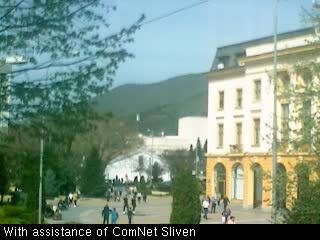person: (102, 204, 110, 224), (110, 208, 119, 224), (223, 207, 231, 223), (131, 194, 137, 215), (123, 195, 129, 215), (203, 200, 209, 220), (127, 207, 134, 224), (211, 196, 217, 214), (68, 192, 74, 207), (223, 196, 229, 211), (106, 188, 112, 201), (73, 192, 78, 207), (113, 187, 118, 202), (228, 215, 236, 224), (142, 191, 147, 205), (137, 191, 141, 206), (118, 186, 122, 201), (132, 186, 137, 197)
